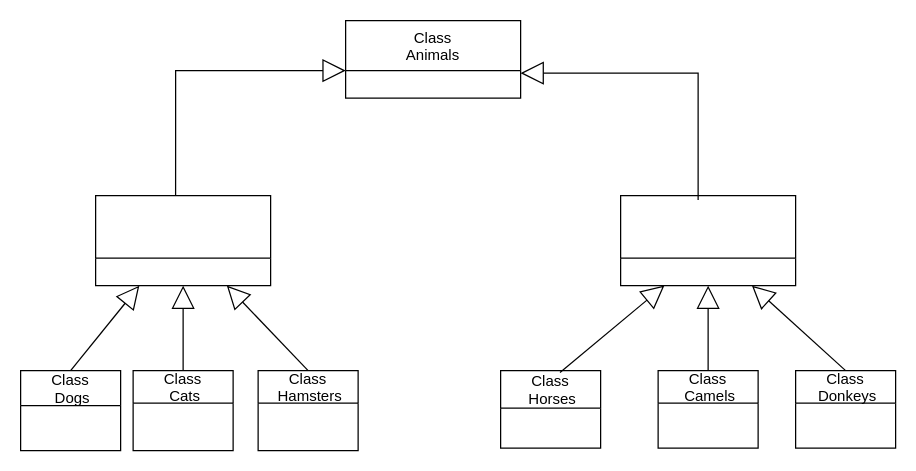
The diagram is 916 pixels wide and 471 high, and some of its shapes have lost their labels. Here are the shapes that lost their labels. From the top down, the centre of each, then its label:
At point 182,240: "Class Home animals".
At point 707,240: "Class Packed animals".
